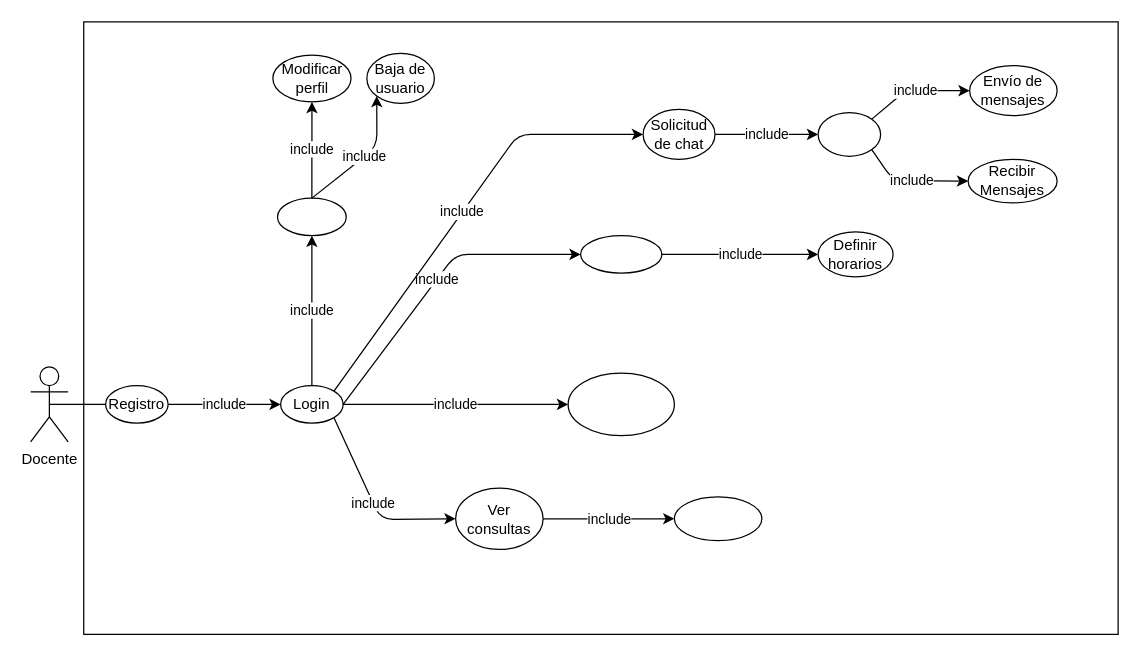
The diagram is 1140 pixels wide and 656 high, and some of its shapes have lost their labels. Each missing label, with the centre of its shape:
"Accede Agenda" belongs at pixel 620 253.
"Accede Historial de respuestas" belongs at pixel 620 404.
"Responder consultas" belongs at pixel 717 518.
"Unirse a chat" belongs at pixel 849 133.
"Ver perfil" belongs at pixel 311 216.
